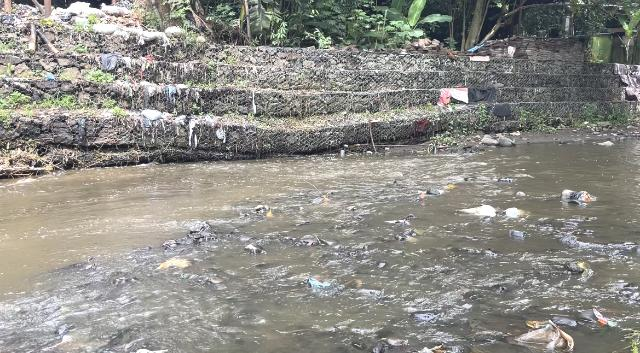Sampah Anorganik: (527, 324, 577, 351), (560, 189, 598, 206), (463, 207, 496, 218), (593, 310, 614, 326), (306, 278, 335, 289), (384, 220, 411, 225), (506, 208, 521, 216), (444, 185, 455, 190)
Sampah Organik: (397, 227, 429, 244), (157, 260, 190, 270), (576, 259, 591, 275), (343, 277, 364, 288), (319, 193, 332, 202), (160, 240, 178, 244), (419, 193, 429, 200), (264, 210, 273, 217)
